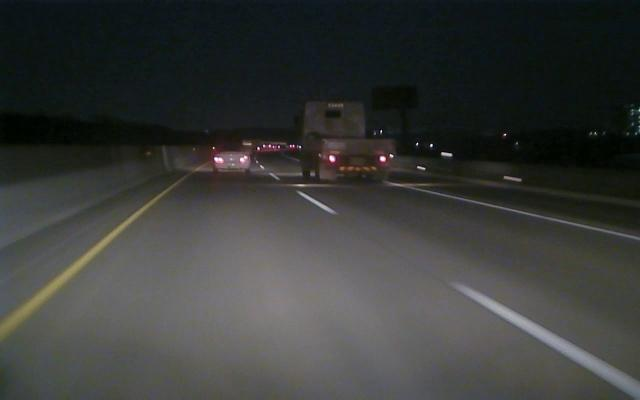lane: (296, 191, 638, 398), (3, 196, 158, 340), (381, 180, 637, 241)
